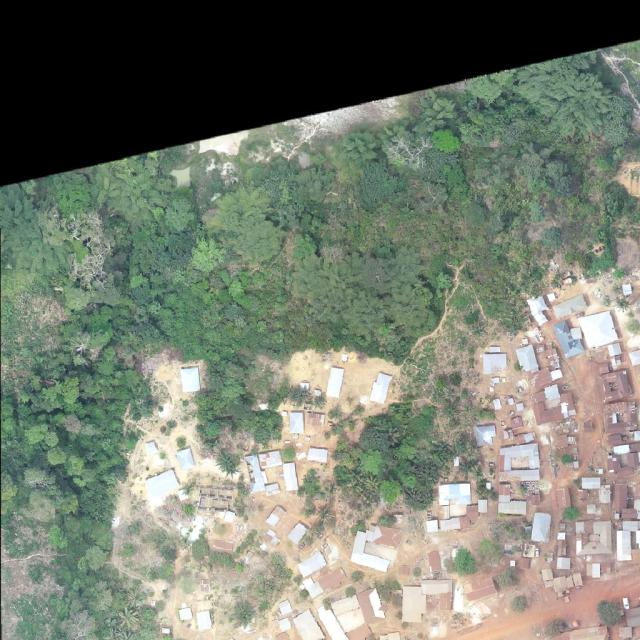building: (579, 309, 618, 350)
greenland: (330, 382, 466, 519), (391, 439, 419, 466)
